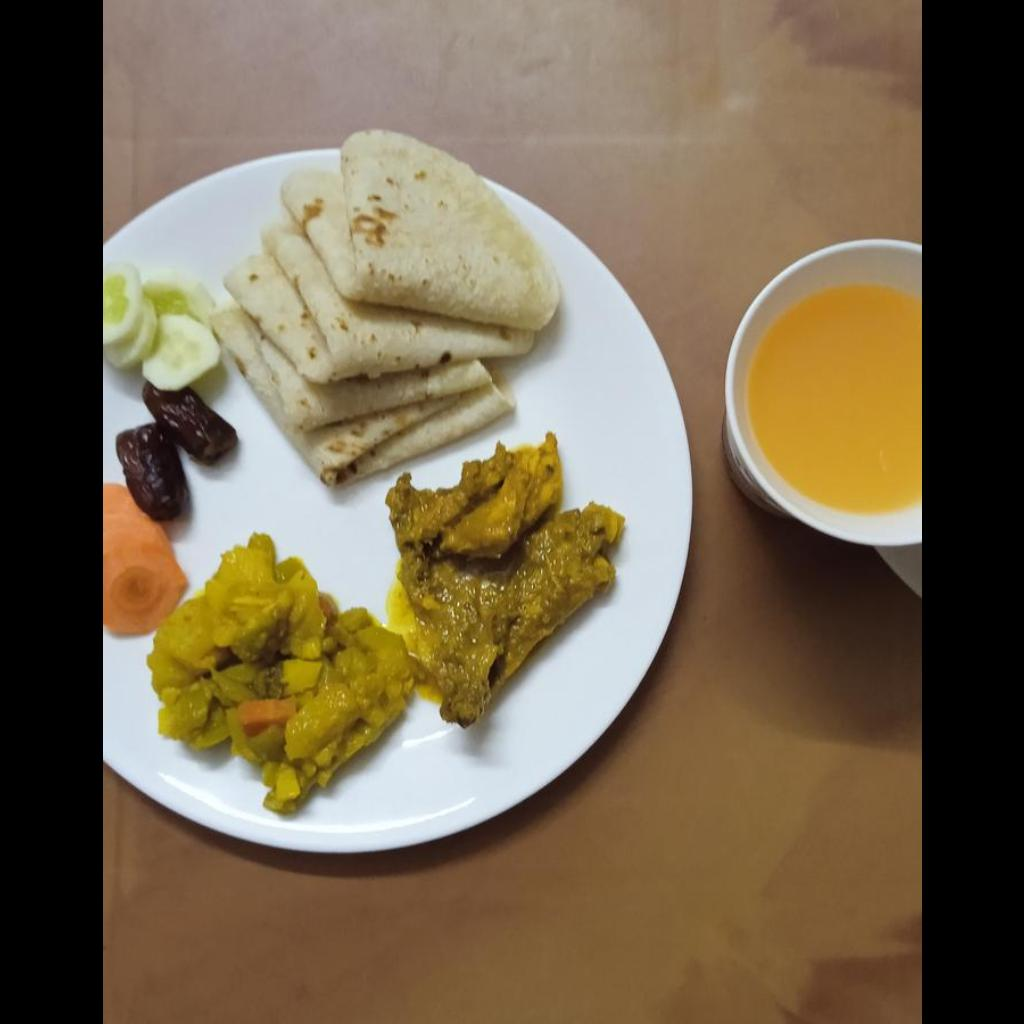carrot: (102, 484, 185, 635)
chicken: (390, 439, 621, 718)
cucumber: (102, 261, 217, 382)
dates: (114, 392, 237, 512)
juice: (740, 286, 920, 518)
ruti: (211, 126, 562, 487)
vegetable: (155, 540, 402, 805)
